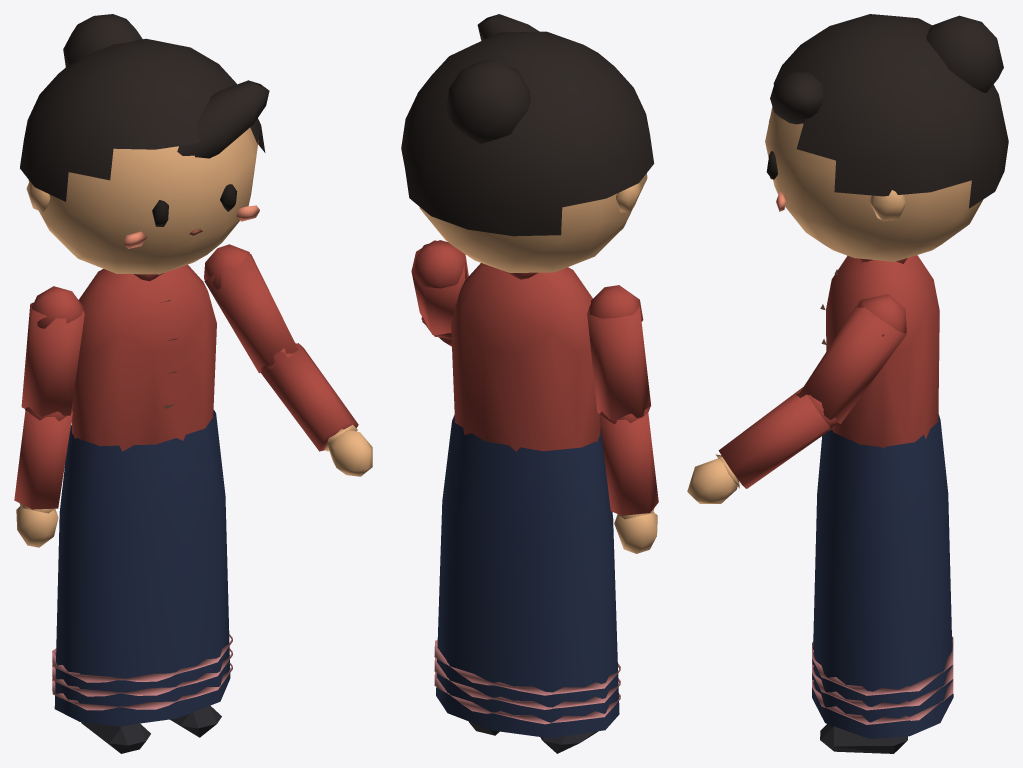
Rendered from west_water_jar_woman.glb.
3 views of the same model, side by side, from view 1: azimuth 30°, elevation 25°; view 2: azimuth 150°, elevation 25°; view 3: azimuth 270°, elevation 25° (orthographic). The views are drawn at different scales.
Parts seen in each view (by area): view 1: body, head, arm_R, forearm_L, arm_L, forearm_R, shin_R, shin_L; view 2: body, head, arm_R, forearm_R, arm_L, shin_R; view 3: body, head, arm_L, forearm_L, shin_L.
Part boxes in pixels (x1=…): body: x1=52, y1=264, x2=232, y2=726; head: x1=20, y1=14, x2=269, y2=274; arm_R: x1=21, y1=286, x2=84, y2=421; forearm_L: x1=260, y1=343, x2=372, y2=476; arm_L: x1=204, y1=244, x2=298, y2=373; forearm_R: x1=14, y1=407, x2=72, y2=547; shin_R: x1=81, y1=722, x2=150, y2=753; shin_L: x1=170, y1=705, x2=221, y2=737; body: x1=434, y1=263, x2=620, y2=738; head: x1=401, y1=14, x2=654, y2=272; arm_R: x1=587, y1=285, x2=651, y2=423; forearm_R: x1=599, y1=409, x2=658, y2=553; arm_L: x1=411, y1=240, x2=468, y2=337; shin_R: x1=540, y1=731, x2=597, y2=753; body: x1=812, y1=255, x2=953, y2=738; head: x1=765, y1=14, x2=1008, y2=261; arm_L: x1=796, y1=294, x2=906, y2=426; forearm_L: x1=687, y1=387, x2=834, y2=503; shin_L: x1=820, y1=724, x2=907, y2=753.
Size of the model in its own units: 0.6139 by 1.48 by 0.6027.
